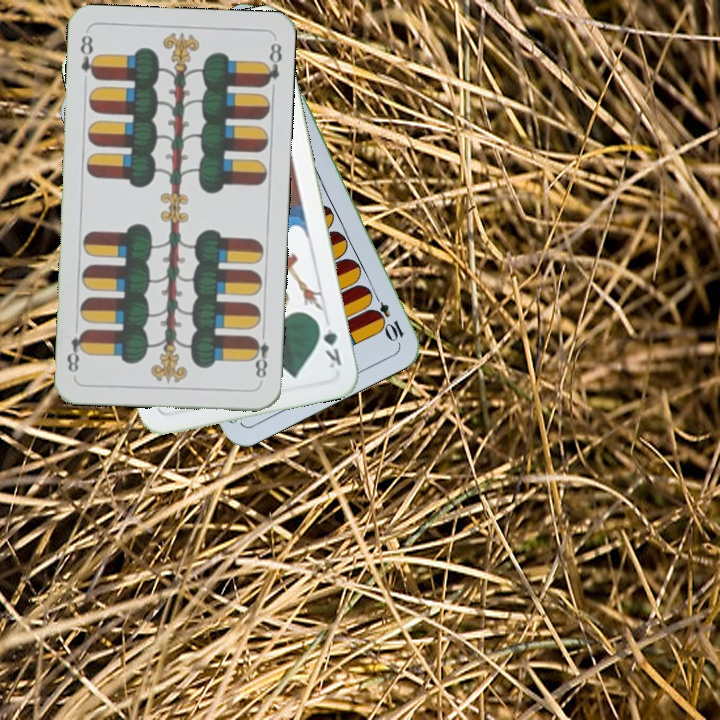E10: (367, 288, 407, 344)
E8: (248, 326, 271, 381), (76, 30, 100, 82)
GK: (313, 316, 344, 371)
